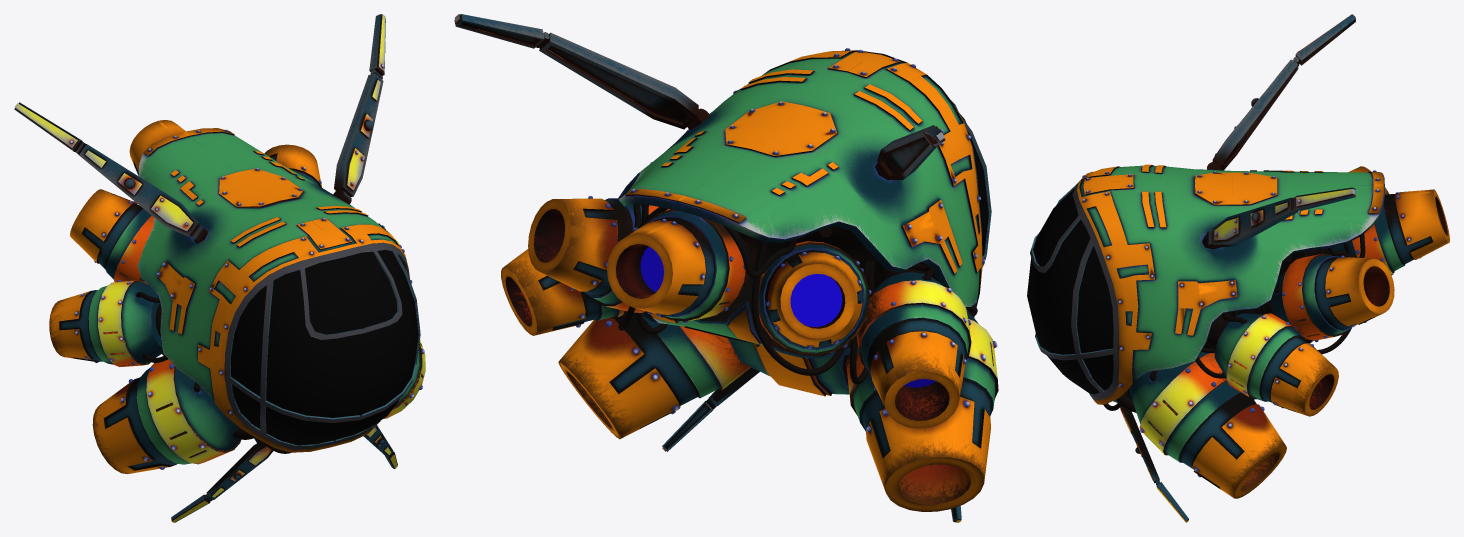
The model's file is Ship.obj.
3 renders of one model, left to right at view 1: azimuth 30°, elevation 25°; view 2: azimuth 150°, elevation 25°; view 3: azimuth 270°, elevation 25°, orthographic. The views are drawn at different scales.
Visible parts, largest first — view 1: Cube.001; view 2: Cube.001; view 3: Cube.001.
Boxes of the visible parts, left/top/right/bottom form: Cube.001: left=14, top=14, right=425, bottom=522; Cube.001: left=454, top=14, right=998, bottom=522; Cube.001: left=1027, top=14, right=1449, bottom=522.
Size of the model in its own units: 11.95 by 11.55 by 12.
